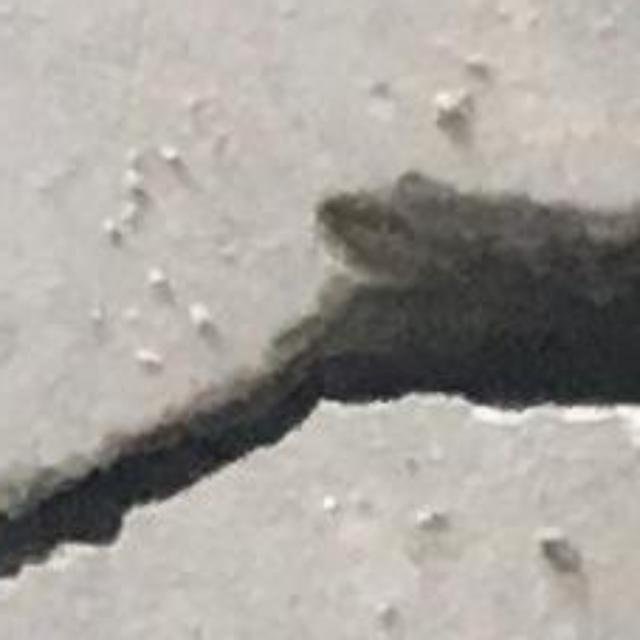crack: (0, 171, 639, 576)
